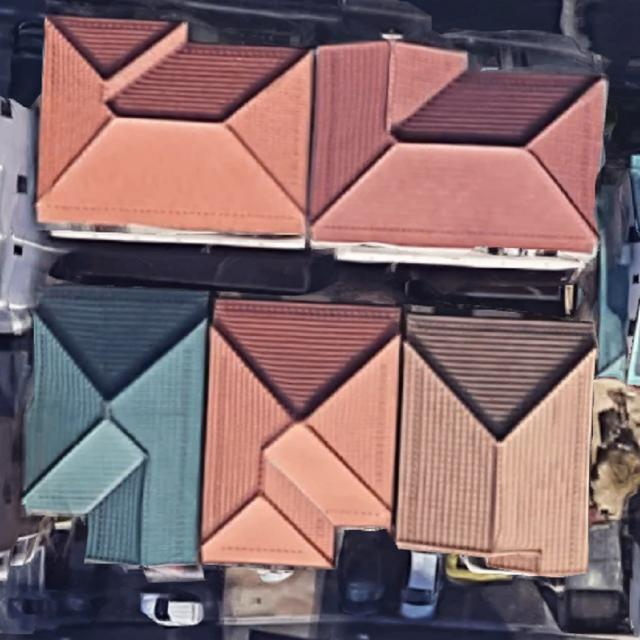Batiment: (308, 42, 607, 252), (38, 16, 314, 235), (201, 299, 400, 567), (395, 316, 596, 576), (23, 286, 208, 565)
